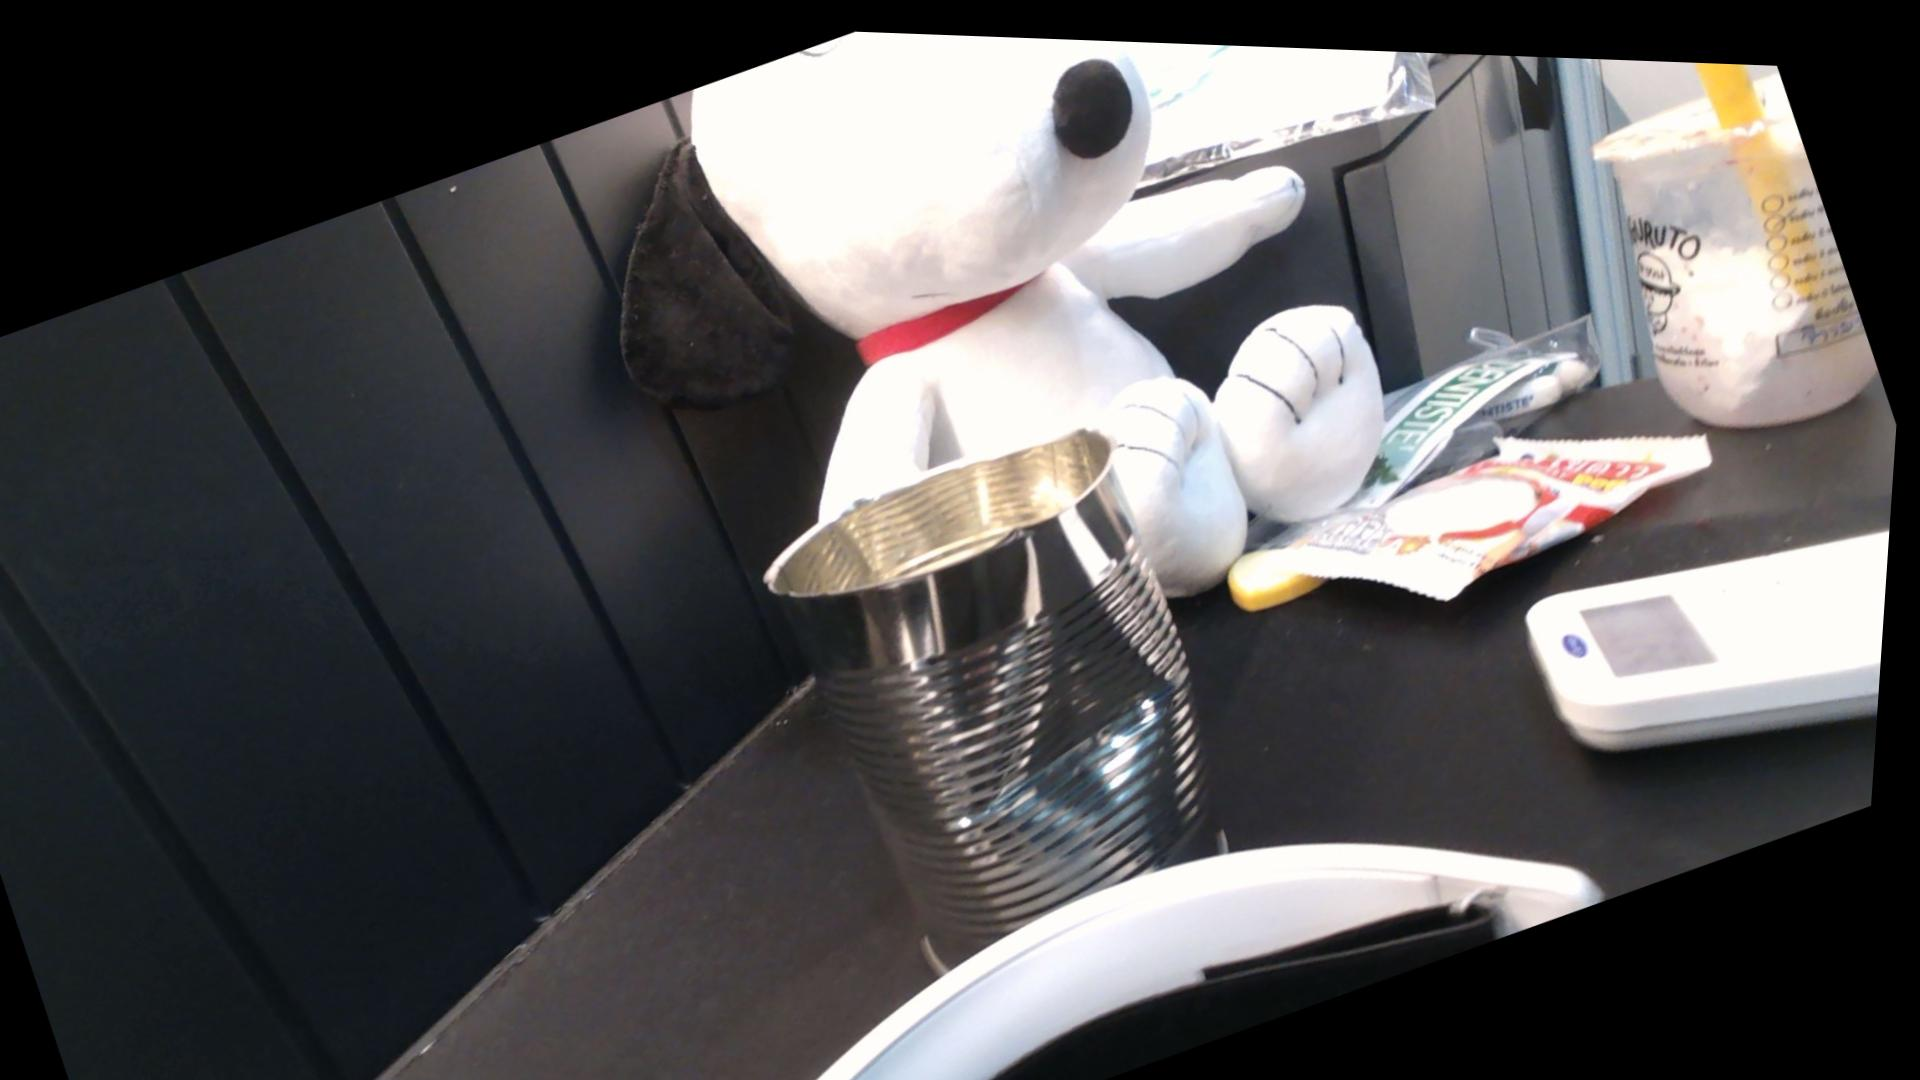metal: (771, 430, 1204, 963)
